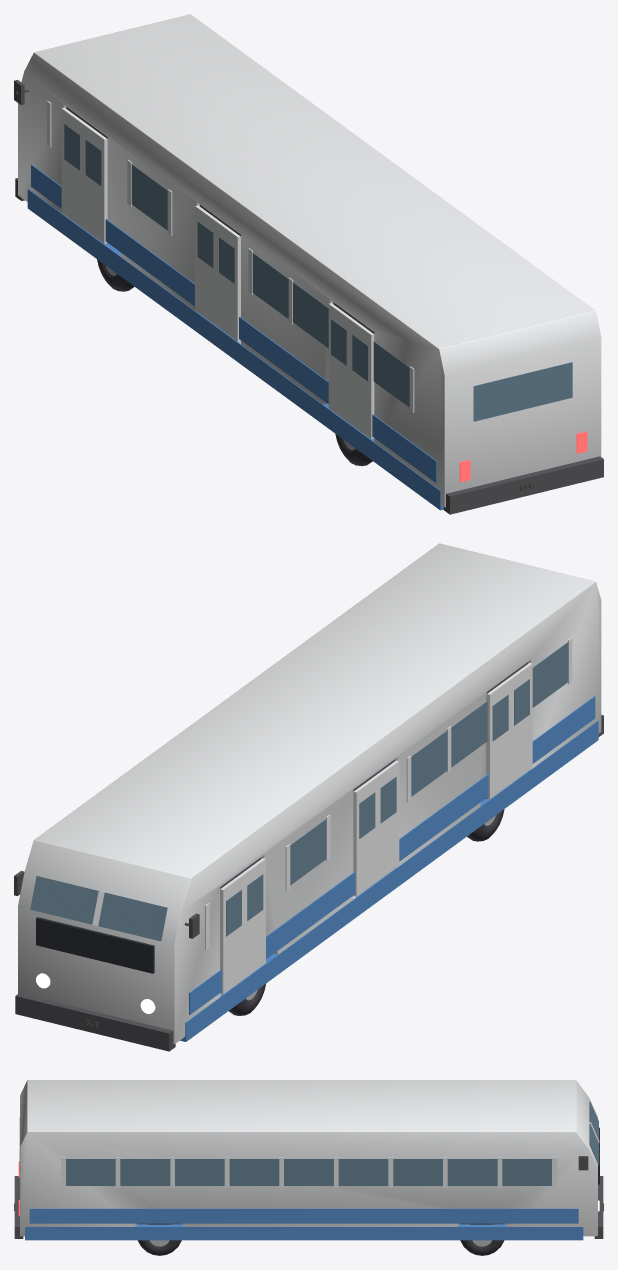
Rendered from brt-12m.glb.
3 renders of one model, top to bottom at view 1: azimuth 30°, elevation 25°; view 2: azimuth 150°, elevation 25°; view 3: azimuth 270°, elevation 25°, orthographic. The views are drawn at different scales.
Visible parts, largest first — view 1: brt-12m_body, transit_door_1, transit_door_3, transit_door_2; view 2: brt-12m_body, transit_door_2, transit_door_3, transit_door_1, dest_board; view 3: brt-12m_body, wheel_FR, wheel_RR.
Boxes of the visible parts, <box> form: brt-12m_body: <box>14,14,603,514</box>; transit_door_1: <box>61,107,107,243</box>; transit_door_3: <box>328,303,374,439</box>; transit_door_2: <box>195,205,240,341</box>; brt-12m_body: <box>14,543,603,1051</box>; transit_door_2: <box>353,760,399,896</box>; transit_door_3: <box>487,663,532,799</box>; transit_door_1: <box>220,858,265,994</box>; dest_board: <box>36,917,154,973</box>; brt-12m_body: <box>14,1080,603,1240</box>; wheel_FR: <box>460,1223,504,1255</box>; wheel_RR: <box>137,1223,181,1255</box>.
Bounding box in the file's own units: 2.94 × 2.95 × 12.25.
